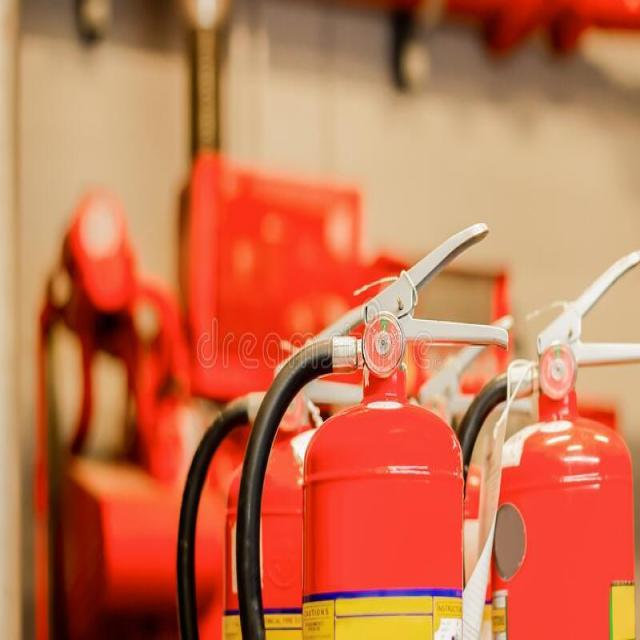fire_extinguisher: (232, 218, 510, 639), (434, 244, 639, 639), (170, 288, 399, 638)
